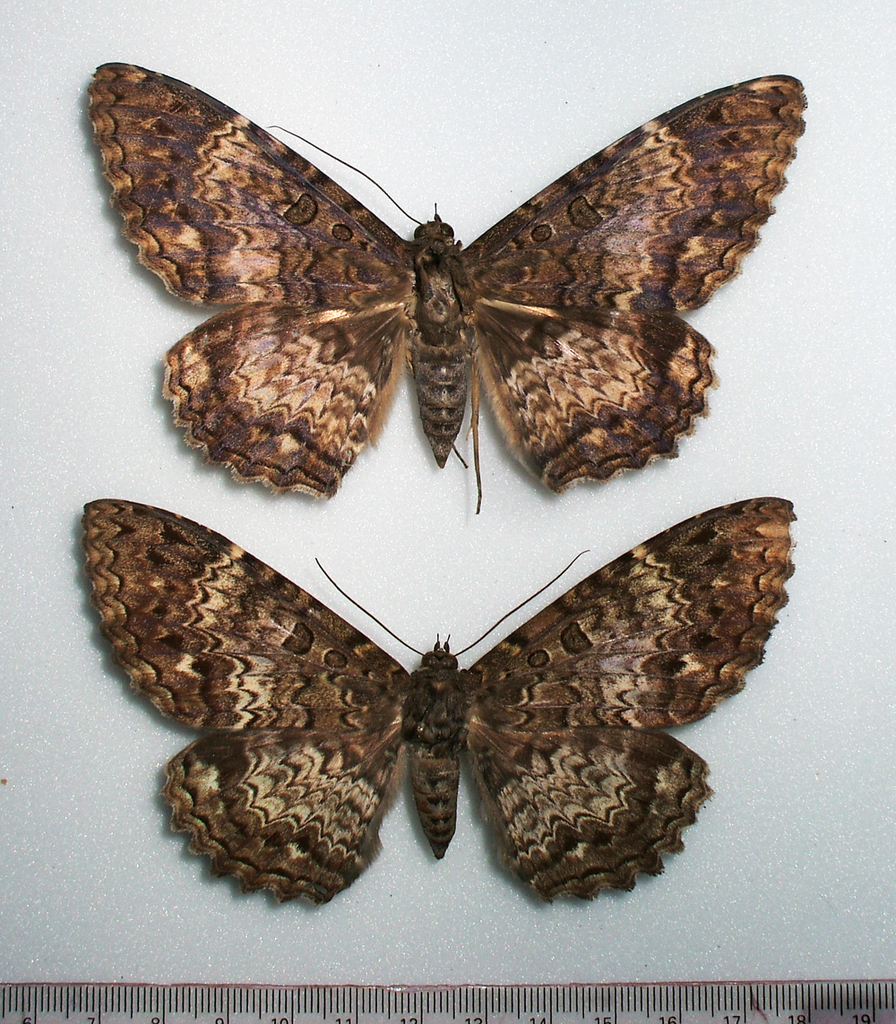Butterfly: (55, 488, 835, 945), (86, 31, 786, 495)
